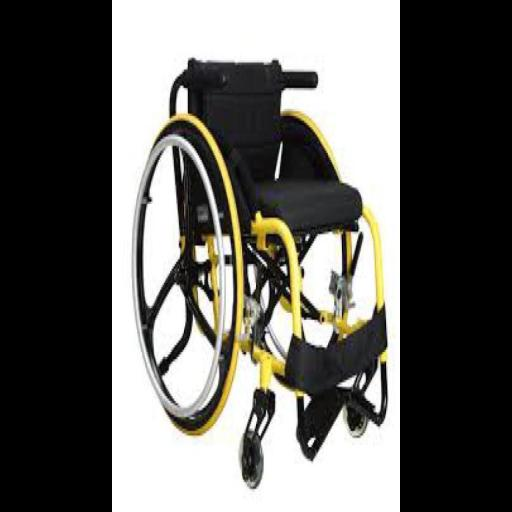cadeira_de_rodas: (135, 53, 384, 477)
